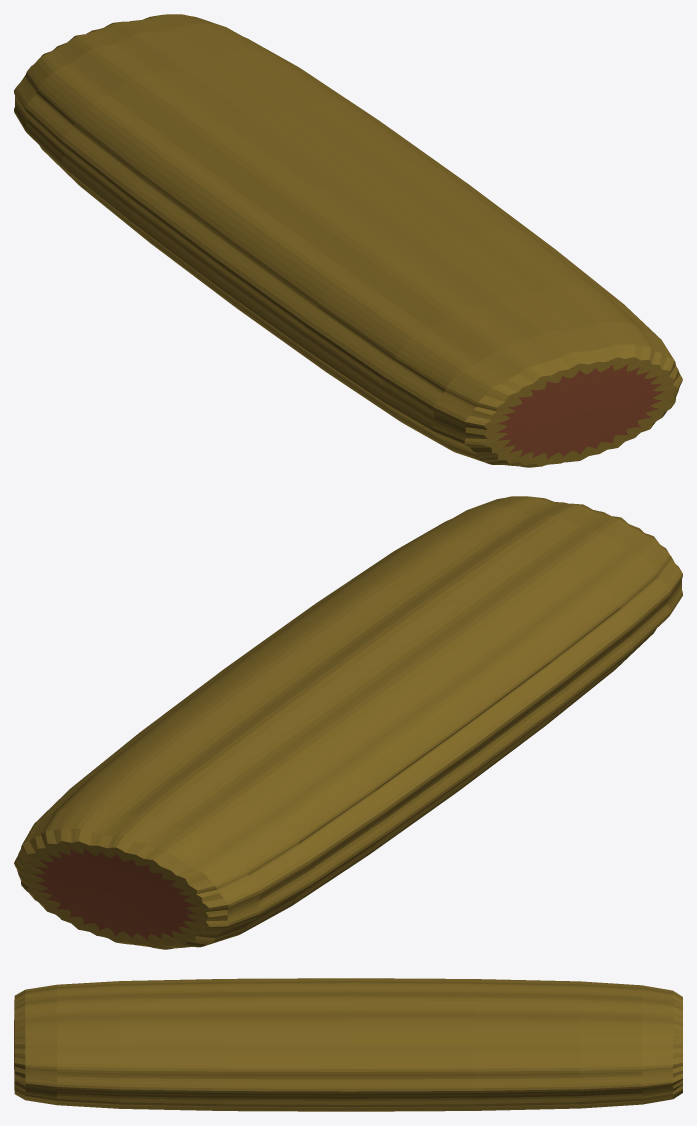
File: tamale.fbx
3 renders of one model, top to bottom at view 1: azimuth 30°, elevation 25°; view 2: azimuth 150°, elevation 25°; view 3: azimuth 270°, elevation 25°, orthographic. The views are drawn at different scales.
Parts seen in each view (by area): view 1: Cylinder; view 2: Cylinder; view 3: Cylinder.
Boxes of the visible parts, x1=… form: Cylinder: x1=14, y1=14, x2=682, y2=467; Cylinder: x1=14, y1=496, x2=682, y2=949; Cylinder: x1=14, y1=978, x2=682, y2=1111.
Size of the model in its own units: 154 by 73.3 by 473.
